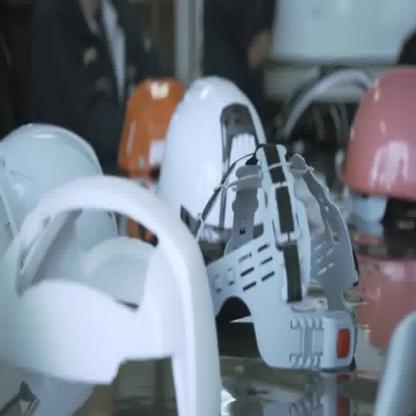helmet: (156, 73, 269, 245), (0, 120, 122, 252), (338, 66, 416, 209), (115, 75, 180, 176)
